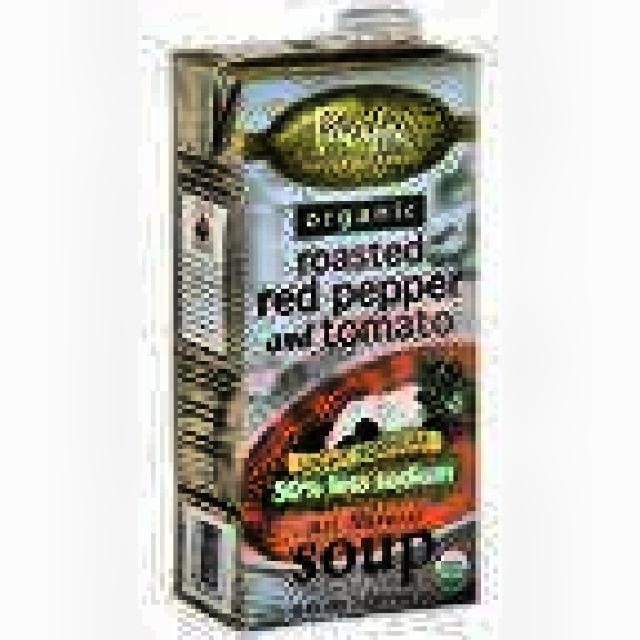cardboard: (165, 36, 480, 632)
